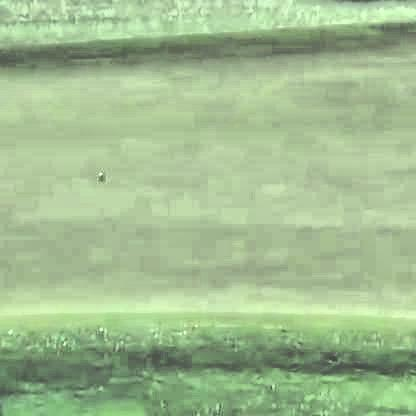golfball: (95, 167, 102, 177)
